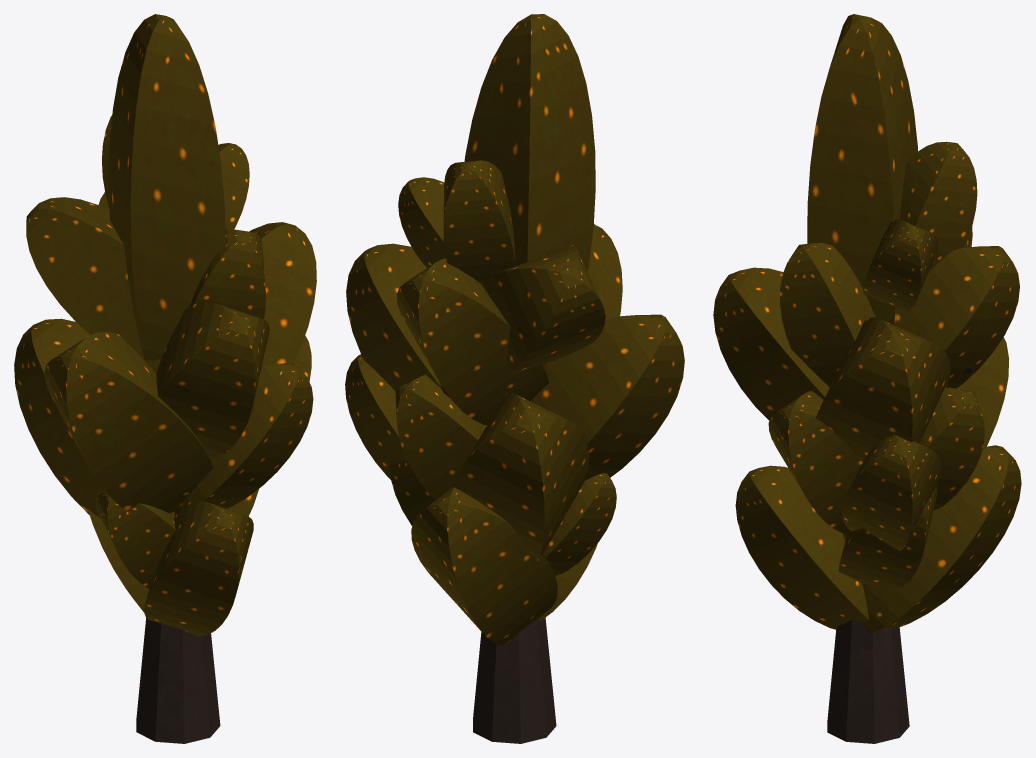
Rendered from tree-dark-green-flowers_8.fbx.
The picture shows the model from 3 angles, left to right: view 1: azimuth 30°, elevation 25°; view 2: azimuth 150°, elevation 25°; view 3: azimuth 270°, elevation 25°; orthographic projection. The views are drawn at different scales.
Parts seen in each view (by area): view 1: Sphere.002; view 2: Sphere.002; view 3: Sphere.002.
Boxes of the visible parts, x1,y1,x2,y2 form: Sphere.002: (14, 14, 316, 743); Sphere.002: (345, 14, 684, 743); Sphere.002: (713, 14, 1021, 743).
Size of the model in its own units: 178 by 424 by 169.
